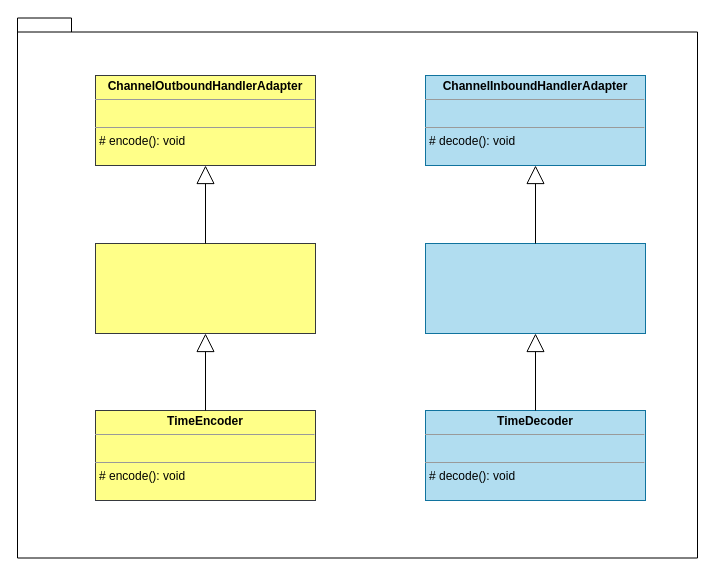
Image size: 715x575. Some labels were removed from this diagram. The box of each missing label's shape, as (x1, y1, x2, y2) in pixels:
ByteToMessageDecoder # decode(): void: (424, 242, 646, 334)
MessageToByteEncoder # encode(): void: (94, 242, 316, 334)
